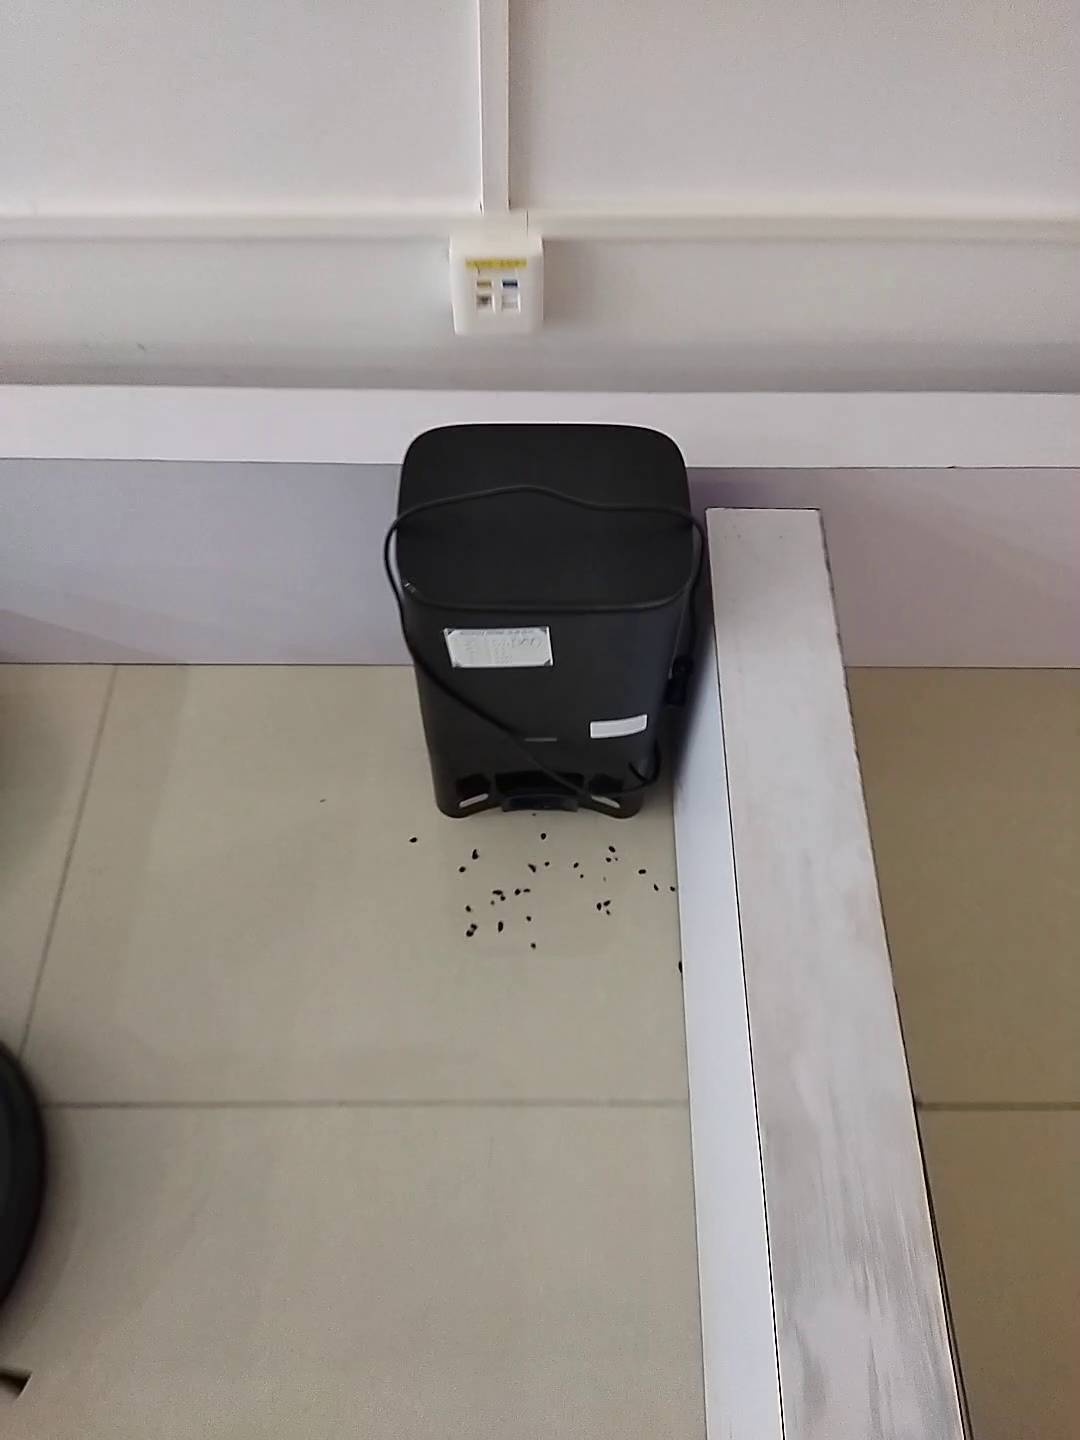dust collecting barrel: (395, 425, 697, 823)
